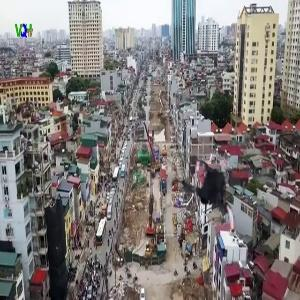drone: (165, 151, 264, 250)
